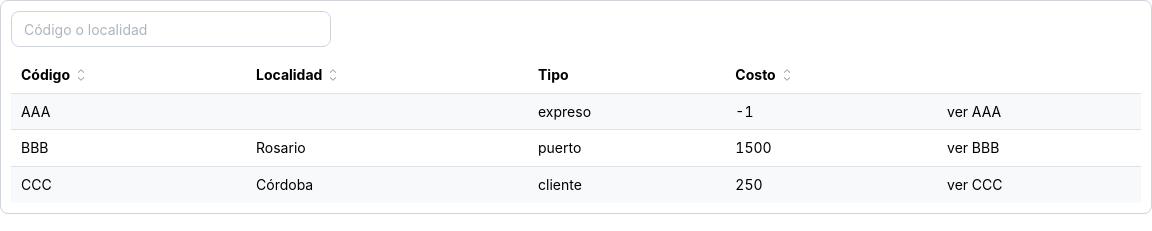
DataTable con buscador › encuentra Córdoba tipeando cordoba
Type "cordoba" into the field named "Buscar en la tabla".
click(171, 29); type("cordoba")  # box [11,11,331,47]
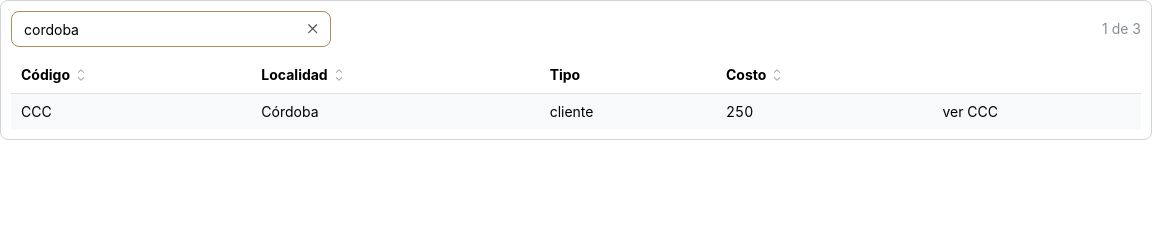
Check: the text "CCC" is shown, box [11,93,251,129]
Check: the text "BBB" is gone
